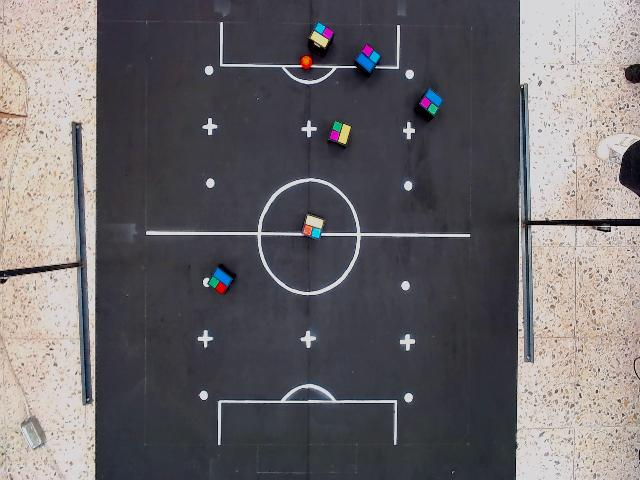robot: (353, 41, 383, 76), (417, 86, 446, 119), (207, 265, 235, 297), (307, 21, 336, 50), (300, 211, 326, 243), (327, 119, 353, 147)
